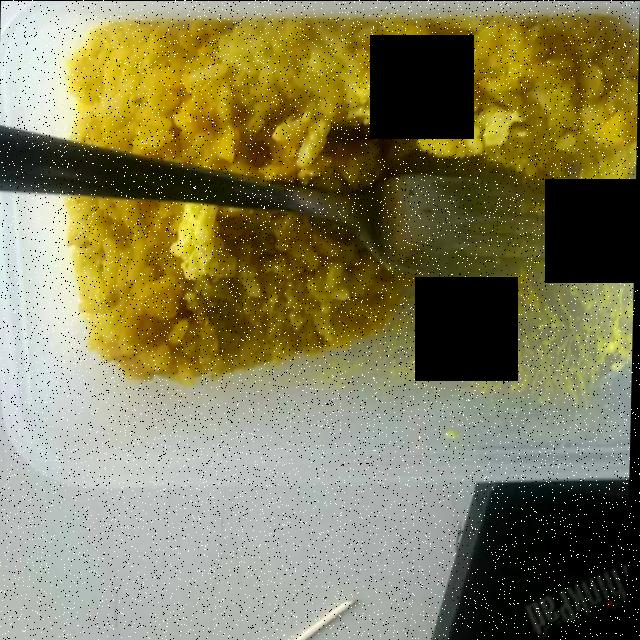rice: (51, 26, 621, 384)
